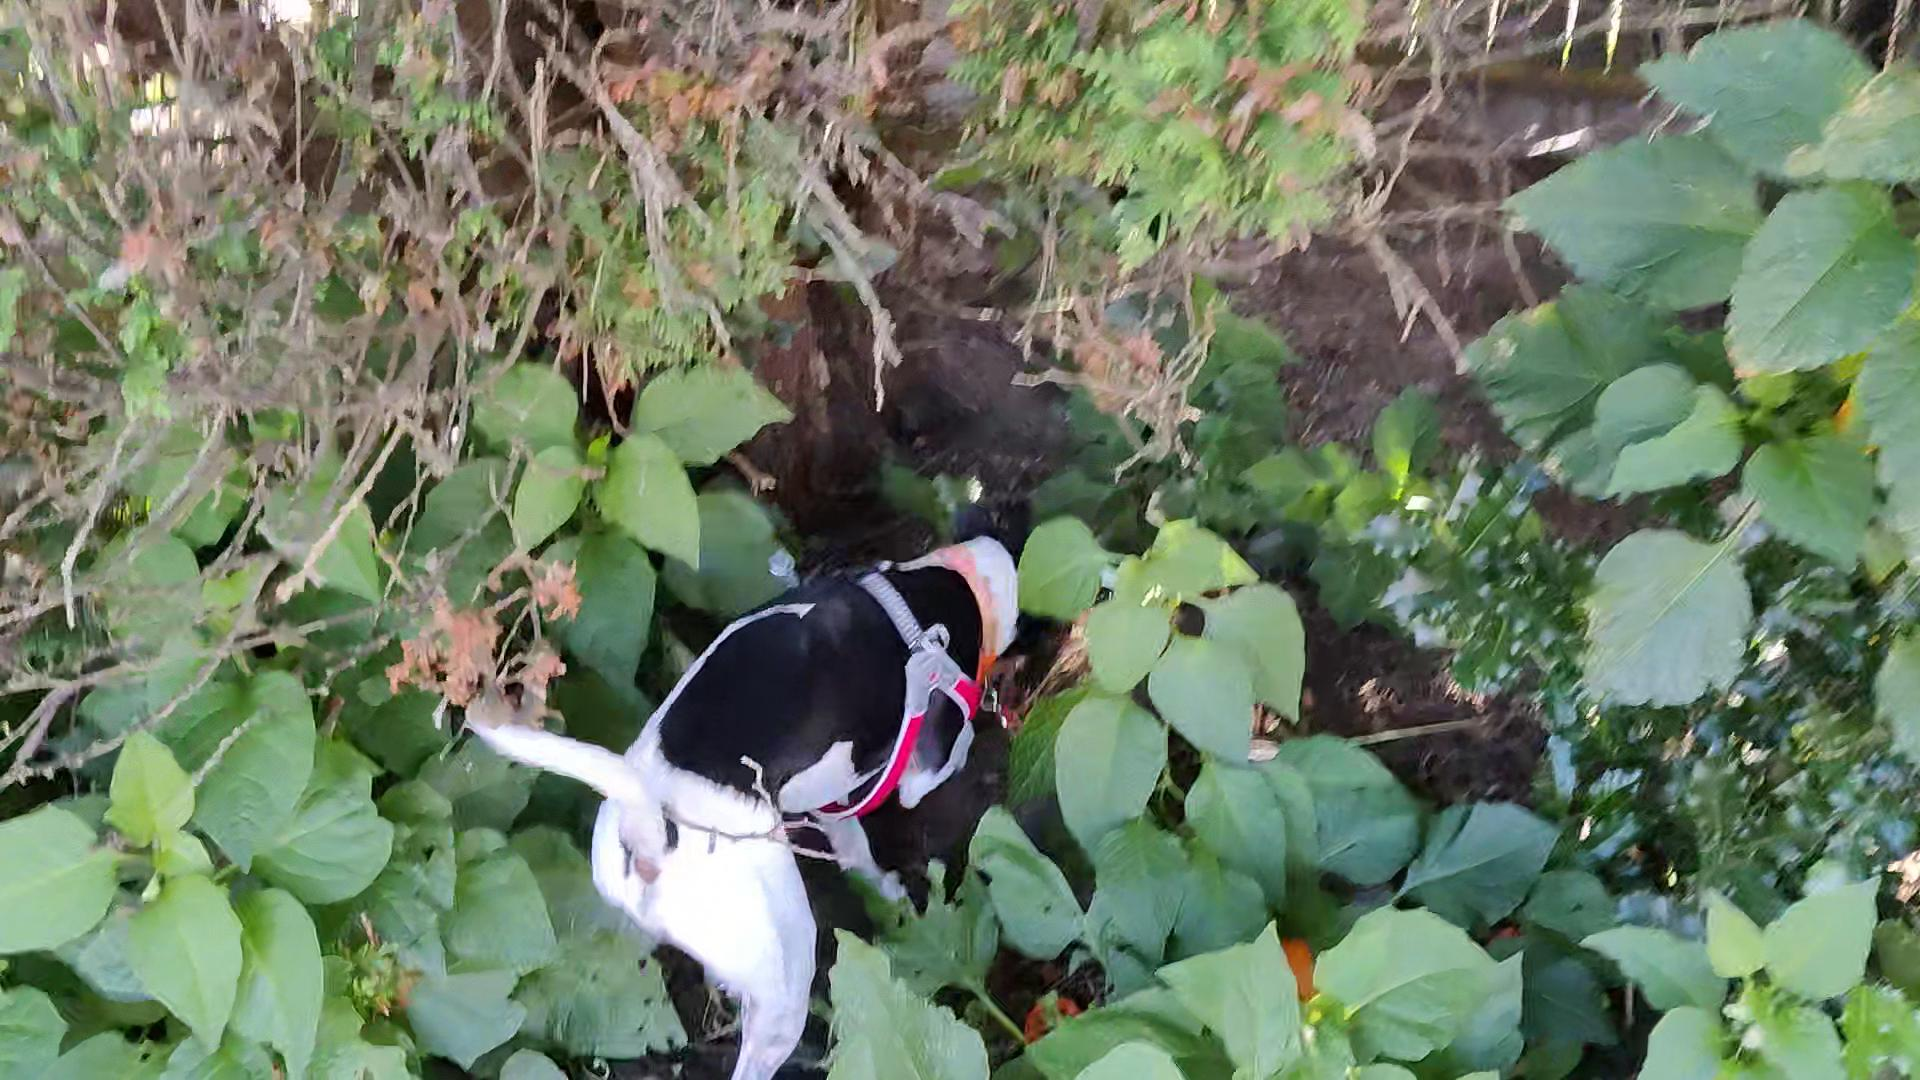Dog: (433, 504, 1056, 1079)
